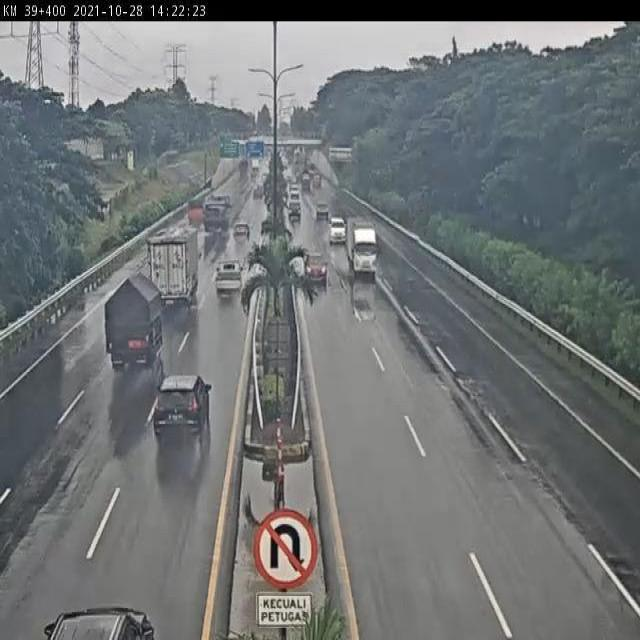car: (152, 376, 211, 435), (213, 259, 243, 297), (302, 249, 328, 284), (328, 217, 348, 243), (233, 221, 250, 240)
truck-l-: (144, 226, 200, 306)
truck-m-: (104, 273, 164, 368)
truck-s-: (347, 217, 380, 279)
